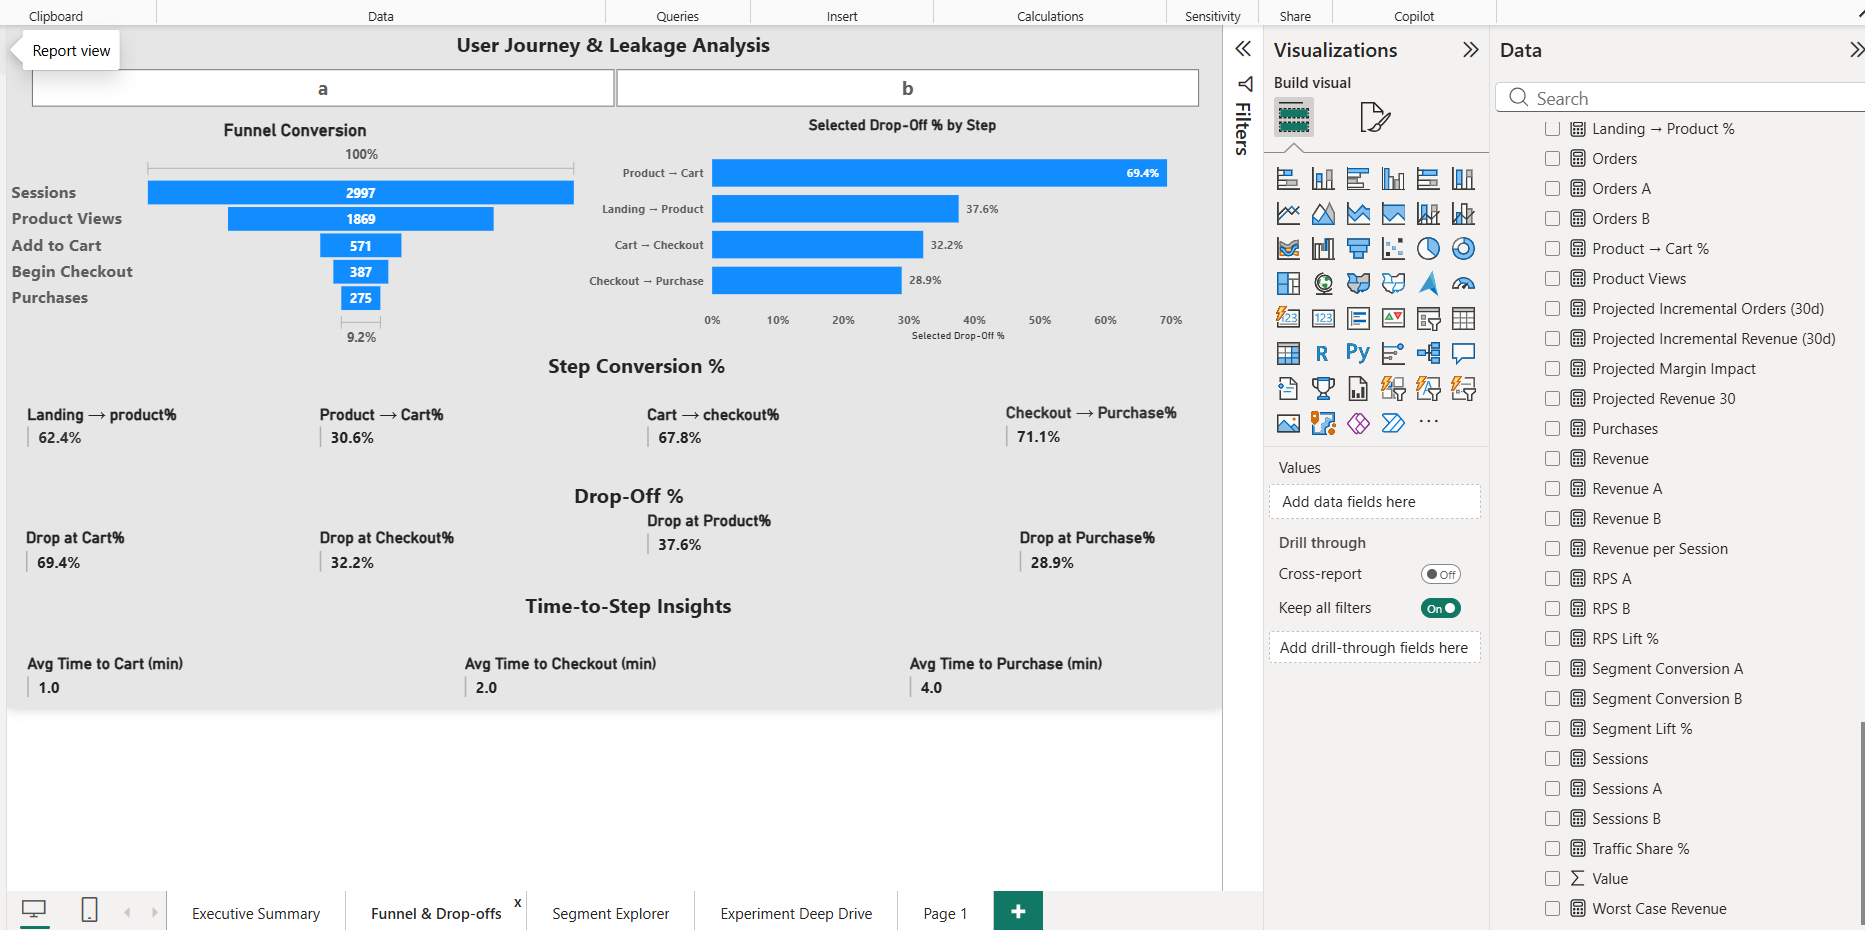

The page's visual inventory and layout, read from the dashboard file:
{"tool":"powerbi","page":{"name":"Funnel & Drop-offs","canvas":[1280,720],"ordinal":1},"visuals":[{"type":"funnel","title":"Funnel Conversion","fields":{"Y":["measures_.Sessions","measures_.Product Views","measures_.Add to Cart","measures_.Begin Checkout","measures_.Purchases"]},"box":[0,93.6,607.5,245.1],"z":0},{"type":"textbox","box":[139.6,0,998.1,40.1],"z":2000},{"type":"slicer","fields":{"Values":["fact_sessions.variant"]},"box":[0,40.1,1280.3,53.5],"z":2001},{"type":"multiRowCard","title":"Cart → checkout%","fields":{"Values":["measures_.Cart → Checkout %"]},"box":[655,380.2,233.2,72.8],"z":2002},{"type":"multiRowCard","title":"Landing → product%","fields":{"Values":["measures_.Landing → Product %"]},"box":[1.5,380.2,233.2,72.8],"z":2003},{"type":"multiRowCard","title":"Product → Cart%","fields":{"Values":["measures_.Product → Cart %"]},"box":[308.9,380.2,248,78.7],"z":2004},{"type":"multiRowCard","title":"Checkout → Purchase%","fields":{"Values":["measures_.Checkout → Purchase %"]},"box":[1032.3,380.2,248,75.7],"z":2005},{"type":"multiRowCard","title":"Drop at Cart%","fields":{"Values":["measures_.Drop at Cart %"]},"box":[0,515.4,233.2,75.7],"z":2006},{"type":"multiRowCard","title":"Drop at Checkout%","fields":{"Values":["measures_.Drop at Checkout %"]},"box":[308.9,515.4,248,75.7],"z":2007},{"type":"multiRowCard","title":"Drop at Product%","fields":{"Values":["measures_.Drop at Product %"]},"box":[655,496.1,248,75.7],"z":2008},{"type":"multiRowCard","title":"Drop at Purchase%","fields":{"Values":["measures_.Drop at Purchase %"]},"box":[1047.1,515.4,233.2,75.7],"z":2009},{"type":"multiRowCard","title":"Avg Time to Cart (min)","fields":{"Values":["measures_.Avg Time to Cart"]},"box":[1.5,644.2,233.2,75.7],"z":2010},{"type":"multiRowCard","title":"Avg Time to Checkout (min)","fields":{"Values":["measures_.Avg Time to Checkout"]},"box":[461.9,644.6,248,75.7],"z":2011},{"type":"multiRowCard","title":"Avg Time to Purchase (min)","fields":{"Values":["measures_.Avg Time to Purchase"]},"box":[931.3,644.6,248,75.7],"z":2012},{"type":"textbox","box":[308.9,591.1,678.8,38.6],"z":2013},{"type":"textbox","box":[461.9,475.3,386.2,40.1],"z":2014},{"type":"textbox","box":[396.6,338.6,534.7,41.6],"z":2015},{"type":"clusteredBarChart","fields":{"Category":["Funnel Steps.Step"],"Y":["Funnel Steps.Selected Drop-Off %"]},"box":[607.5,93.6,672.8,245.1],"z":2016}]}

Visuals, with their boxes on the page's 1280x720 design canvas (x1, y1, x2, y2). These are canvas units, not pixel positions in the 1865x930 screenshot, which may show the page scaled, cropped or inside an application window:
"Funnel Conversion" funnel: rect(0, 94, 608, 339)
textbox: rect(140, 0, 1138, 40)
slicer - fact_sessions.variant: rect(0, 40, 1280, 94)
"Cart → checkout%" multiRowCard: rect(655, 380, 888, 453)
"Landing → product%" multiRowCard: rect(2, 380, 235, 453)
"Product → Cart%" multiRowCard: rect(309, 380, 557, 459)
"Checkout → Purchase%" multiRowCard: rect(1032, 380, 1280, 456)
"Drop at Cart%" multiRowCard: rect(0, 515, 233, 591)
"Drop at Checkout%" multiRowCard: rect(309, 515, 557, 591)
"Drop at Product%" multiRowCard: rect(655, 496, 903, 572)
"Drop at Purchase%" multiRowCard: rect(1047, 515, 1280, 591)
"Avg Time to Cart (min)" multiRowCard: rect(2, 644, 235, 720)
"Avg Time to Checkout (min)" multiRowCard: rect(462, 645, 710, 720)
"Avg Time to Purchase (min)" multiRowCard: rect(931, 645, 1179, 720)
textbox: rect(309, 591, 988, 630)
textbox: rect(462, 475, 848, 515)
textbox: rect(397, 339, 931, 380)
clusteredBarChart - Funnel Steps.Step x Funnel Steps.Selected Drop-Off %: rect(608, 94, 1280, 339)
